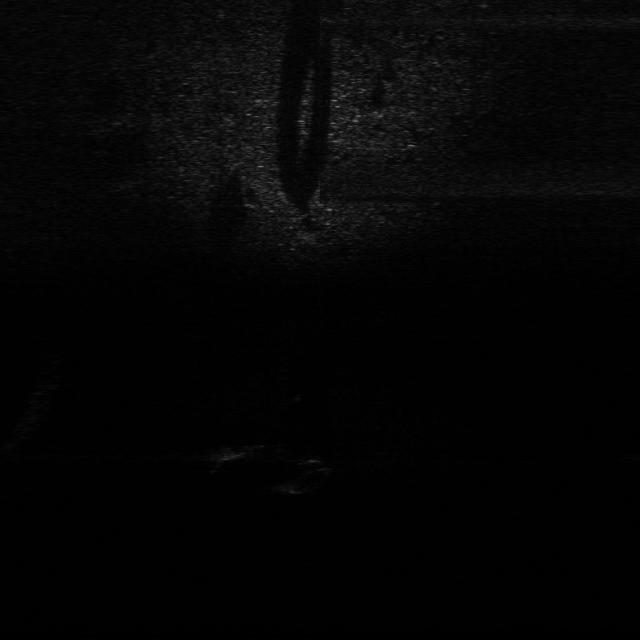square cage: (202, 442, 257, 470)
tyre: (264, 455, 337, 495)
